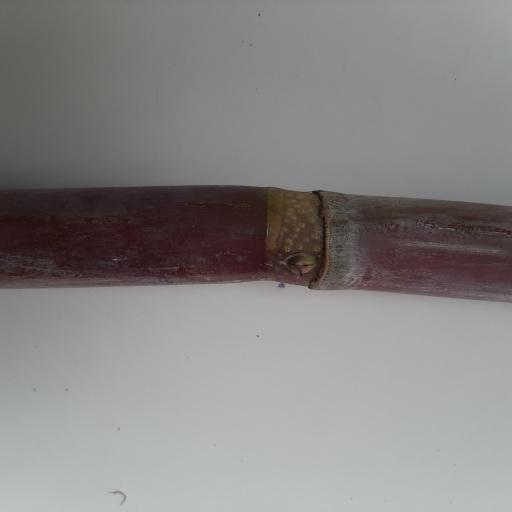Bud: (280, 253, 319, 276)
